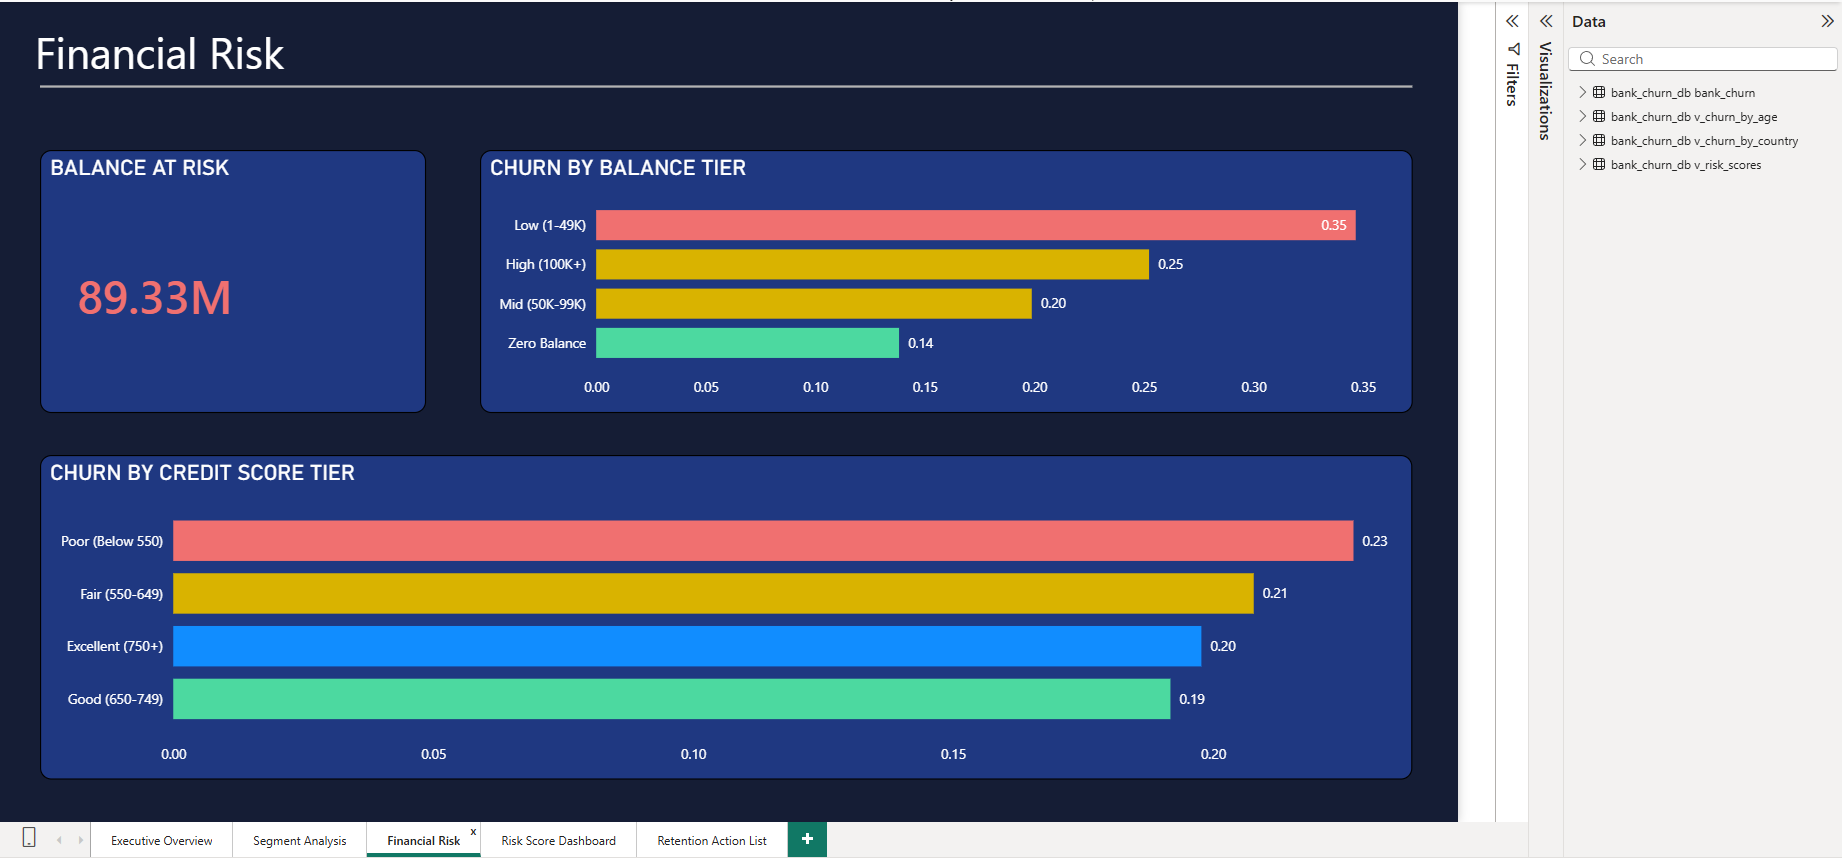

What the dashboard file says about the page in this screenshot:
{"tool":"powerbi","page":{"name":"Financial Risk","canvas":[1280,720],"ordinal":2},"visuals":[{"type":"clusteredBarChart","title":"CHURN BY  BALANCE TIER","fields":{"Category":["bank_churn_db bank_churn.Balance Tier"],"Y":["Avg(bank_churn_db bank_churn.churn)"]},"box":[421.2,130.4,819,230.5],"z":0},{"type":"cardVisual","title":"BALANCE AT RISK","fields":{"Data":["bank_churn_db bank_churn.Balance At Risk"]},"box":[35,130.4,339.5,230.5],"z":1000},{"type":"clusteredBarChart","title":"CHURN BY CREDIT SCORE TIER","fields":{"Category":["bank_churn_db bank_churn.Credit Tier"],"Y":["Avg(bank_churn_db bank_churn.churn)"]},"box":[35,397.8,1205.1,285],"z":2000},{"type":"textbox","box":[25.9,14.4,514.9,64.2],"z":3000},{"type":"shape","box":[35,33.1,1205.1,81.7],"z":4000}]}

Visuals, with their boxes on the page's 1280x720 design canvas (x1, y1, x2, y2). These are canvas units, not pixel positions in the 1842x858 screenshot, which may show the page scaled, cropped or inside an application window:
"CHURN BY  BALANCE TIER" clusteredBarChart: crop(421, 130, 1240, 361)
"BALANCE AT RISK" cardVisual: crop(35, 130, 374, 361)
"CHURN BY CREDIT SCORE TIER" clusteredBarChart: crop(35, 398, 1240, 683)
textbox: crop(26, 14, 541, 79)
shape: crop(35, 33, 1240, 115)
